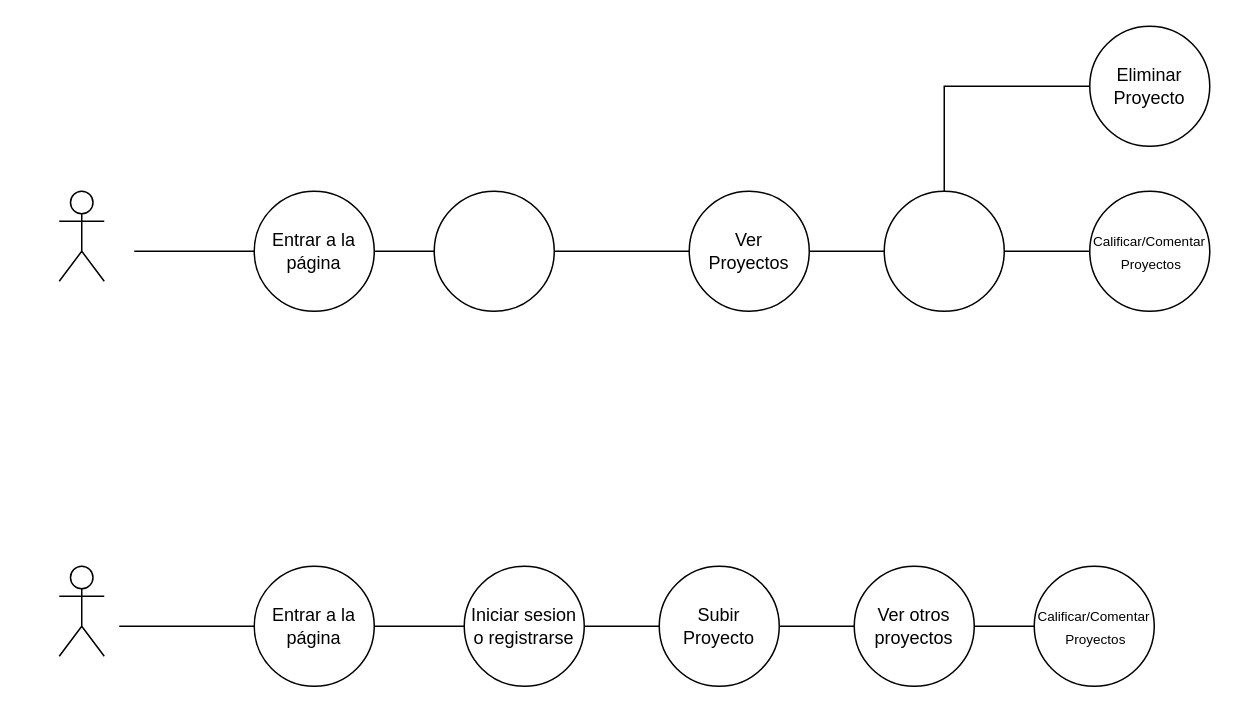
Image size: 1236x714. Some labels were removed from this diagram. The shapes that lost their labels are listed below. From the top down, each one's centre as x and y in pixels, then its label:
(81,235): Adminstrador
(493,250): Iniciar sesion
(943,250): Elegir Proyecto
(81,610): Empleado
